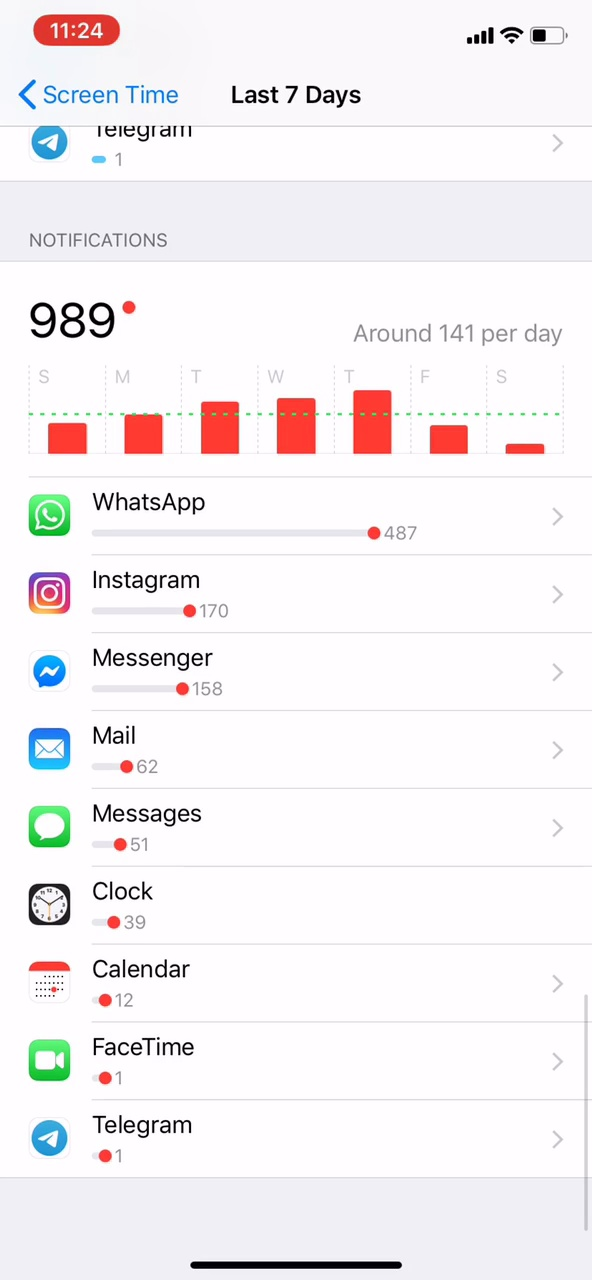not_app: (23, 475, 434, 553), (18, 558, 257, 627), (22, 638, 275, 703), (11, 1099, 229, 1171), (18, 796, 245, 861), (17, 872, 220, 942), (20, 714, 240, 778), (14, 955, 211, 1024), (11, 1032, 200, 1083)
not_over: (20, 208, 220, 347)
week: (215, 71, 378, 111)
